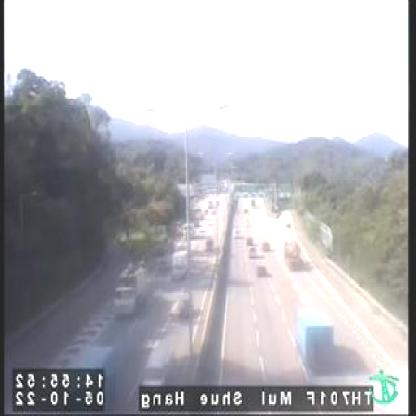Car: (143, 342, 173, 386), (256, 260, 268, 277)
Truck: (299, 308, 335, 366), (114, 264, 147, 317), (172, 250, 188, 279)
